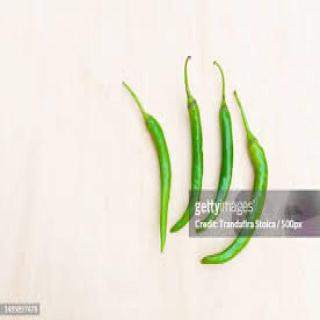Cabai Hijau: (121, 83, 172, 253), (220, 153, 274, 262), (189, 92, 204, 228), (217, 104, 235, 208)
